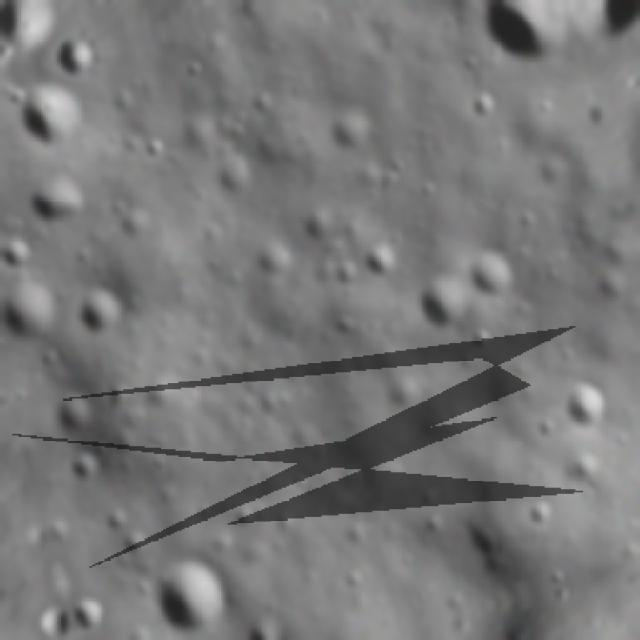crater: (136, 534, 250, 640), (0, 65, 102, 168), (462, 0, 578, 82), (17, 156, 103, 239), (399, 262, 483, 346), (0, 274, 71, 361), (66, 272, 143, 352), (452, 235, 525, 313), (316, 92, 386, 172), (555, 370, 627, 445), (39, 382, 103, 447), (357, 231, 412, 294), (50, 437, 107, 497), (454, 514, 509, 569), (48, 48, 109, 90), (66, 589, 116, 640), (520, 491, 565, 535), (235, 618, 299, 640)
